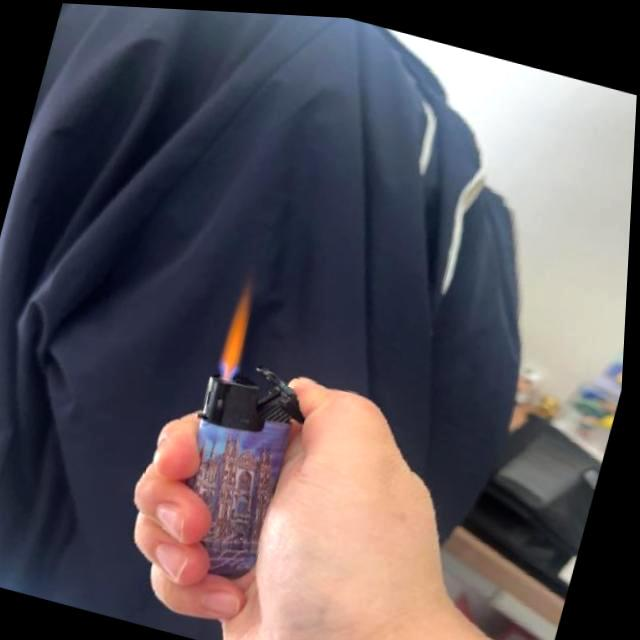fire: (212, 274, 266, 382)
